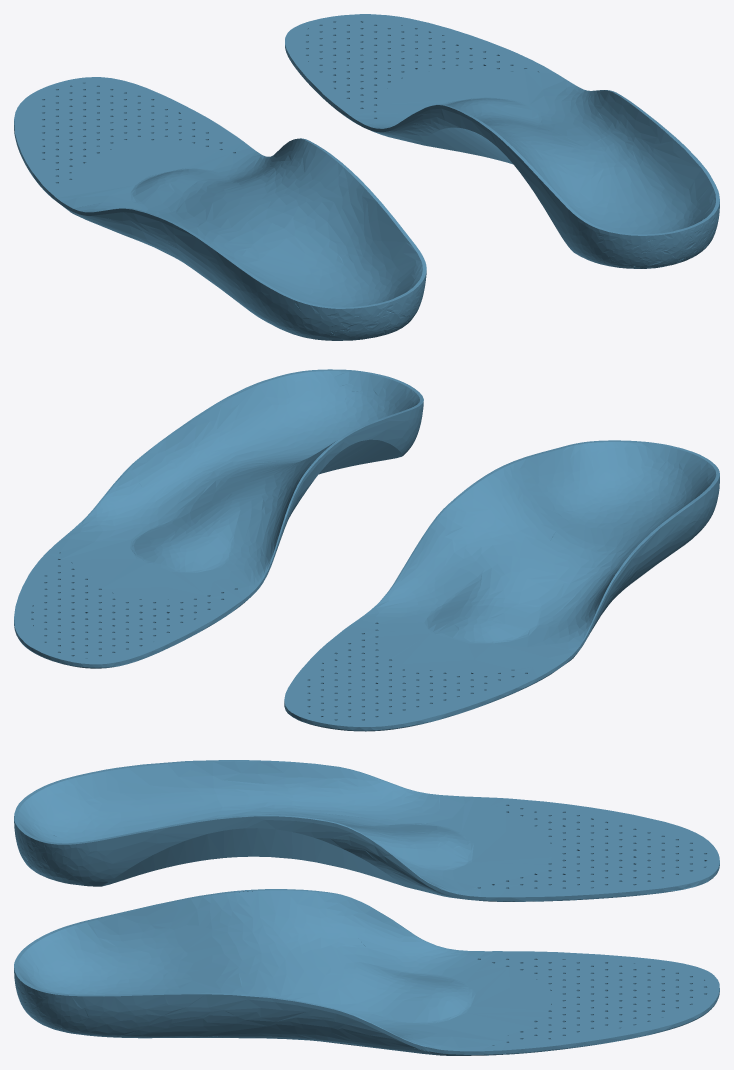
The model's file is semelles.glb.
3 renders of one model, top to bottom at view 1: azimuth 30°, elevation 25°; view 2: azimuth 150°, elevation 25°; view 3: azimuth 270°, elevation 25°, orthographic. The views are drawn at different scales.
Visible parts, largest first — view 1: semelle_G, semelle_D; view 2: semelle_G, semelle_D; view 3: semelle_D, semelle_G.
Part boxes in pixels (x1,y1,x2,y2): semelle_G: [14, 77, 426, 340]; semelle_D: [285, 14, 719, 268]; semelle_G: [284, 440, 719, 731]; semelle_D: [14, 369, 423, 668]; semelle_D: [14, 889, 719, 1055]; semelle_G: [14, 760, 719, 901].
Size of the model in its own units: 0.2397 by 0.0336 by 0.2804.
